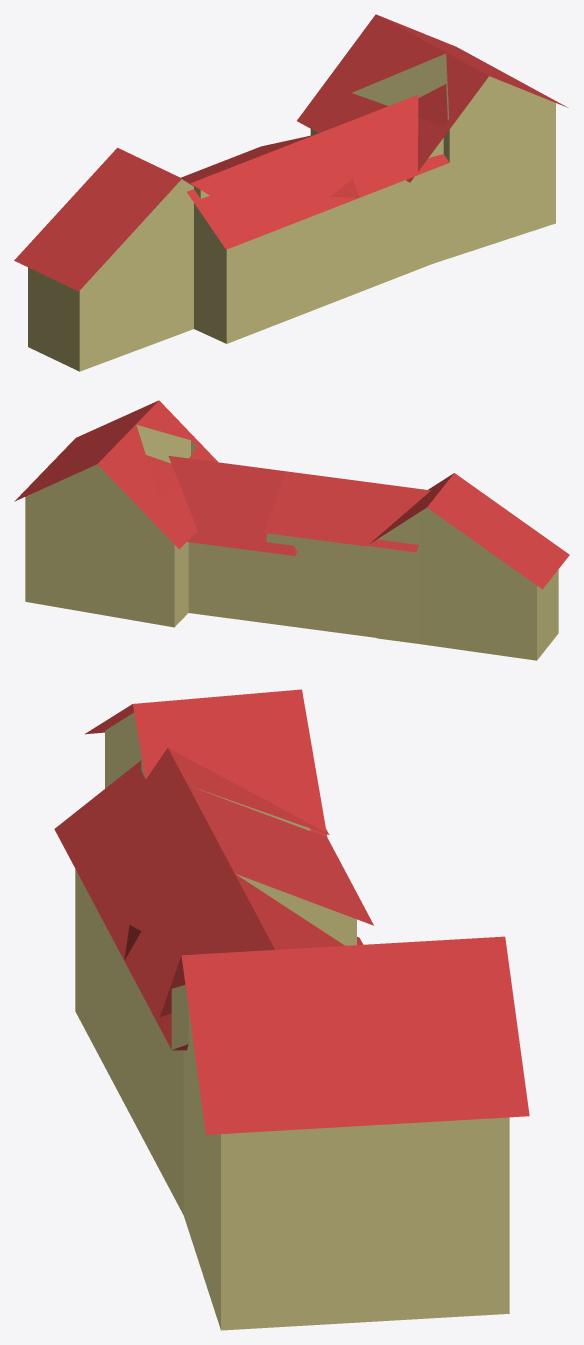
The picture shows the model from 3 angles, top to bottom: view 1: azimuth 30°, elevation 25°; view 2: azimuth 150°, elevation 25°; view 3: azimuth 270°, elevation 25°; orthographic projection. The views are drawn at different scales.
Size of the model in its own units: 46.99 by 20.2 by 14.45.
